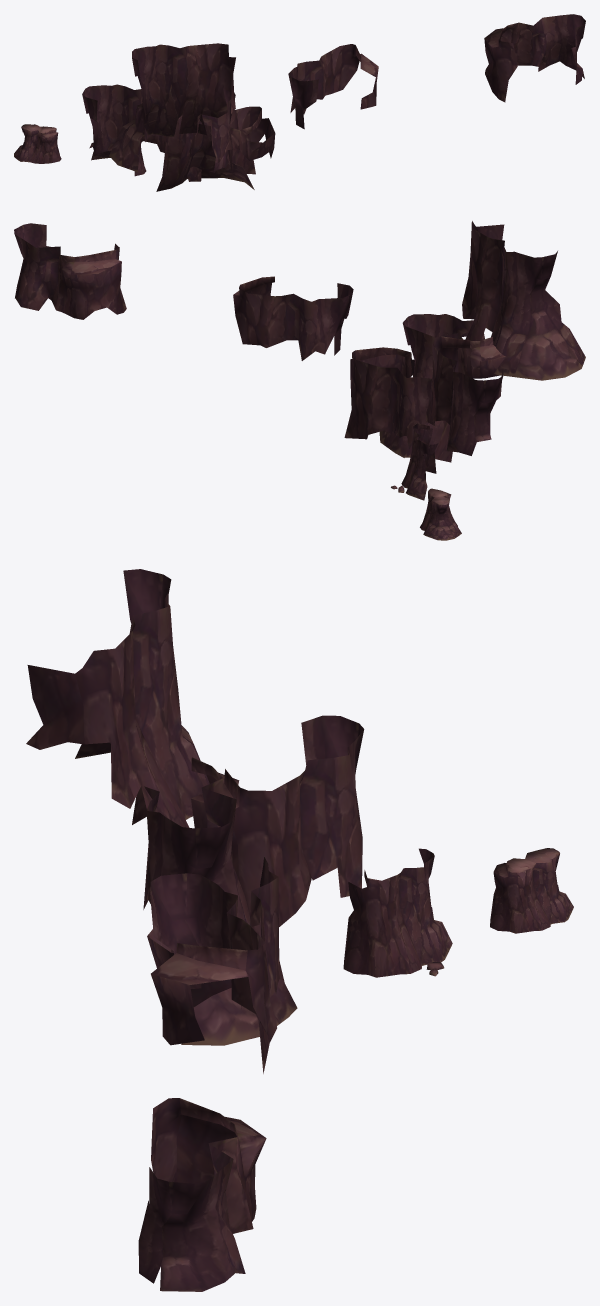
File: area4_shiqiang_03.FBX
The picture shows the model from 3 angles, top to bottom: view 1: azimuth 30°, elevation 25°; view 2: azimuth 150°, elevation 25°; view 3: azimuth 270°, elevation 25°; orthographic projection. The views are drawn at different scales.
Visible parts, largest first — view 1: area4_shiqiang_03; view 2: area4_shiqiang_03; view 3: area4_shiqiang_03.
Boxes of the visible parts, <box> form: area4_shiqiang_03: <box>14,14,585,191</box>; area4_shiqiang_03: <box>14,221,585,540</box>; area4_shiqiang_03: <box>26,569,573,1291</box>.
Size of the model in its own units: 10966 by 3867 by 5403.
